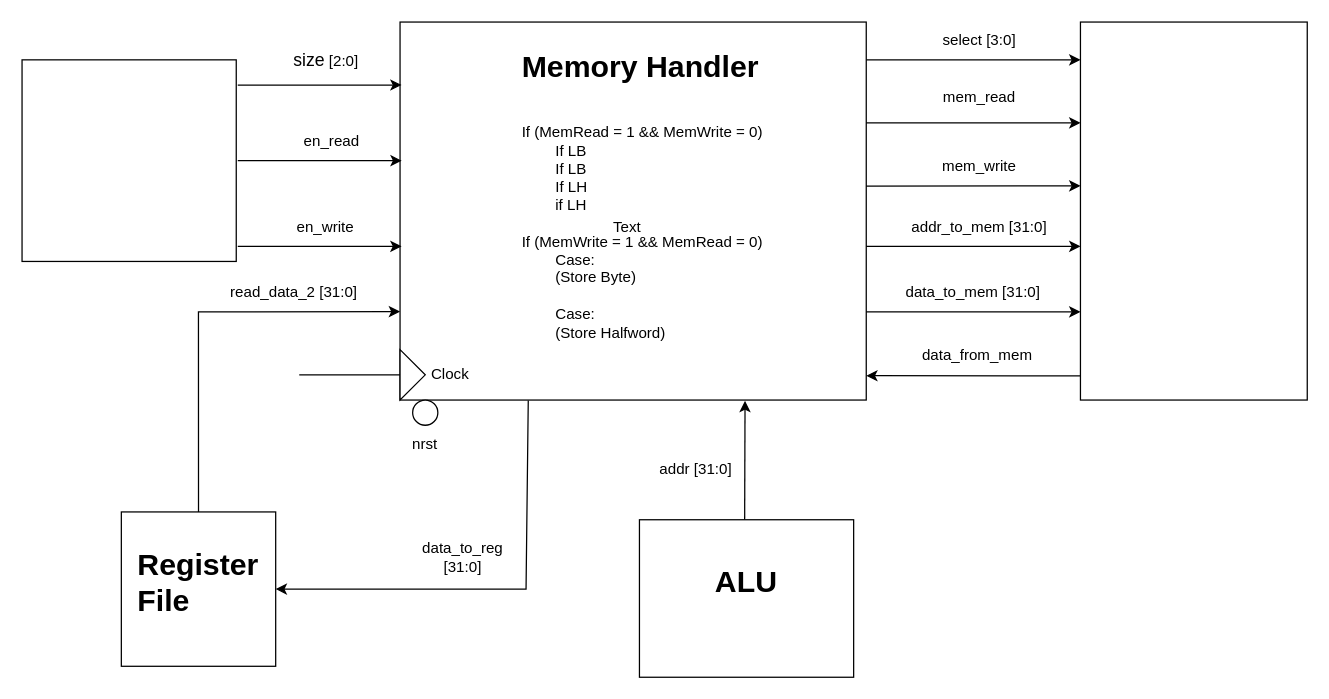
Some shapes in this 1329 by 699 pixel diagram are drawn without their labels. Each missing label, with the centre of its shape:
"Control Unit" belongs at (128,160).
"Memory" belongs at (1193,210).
